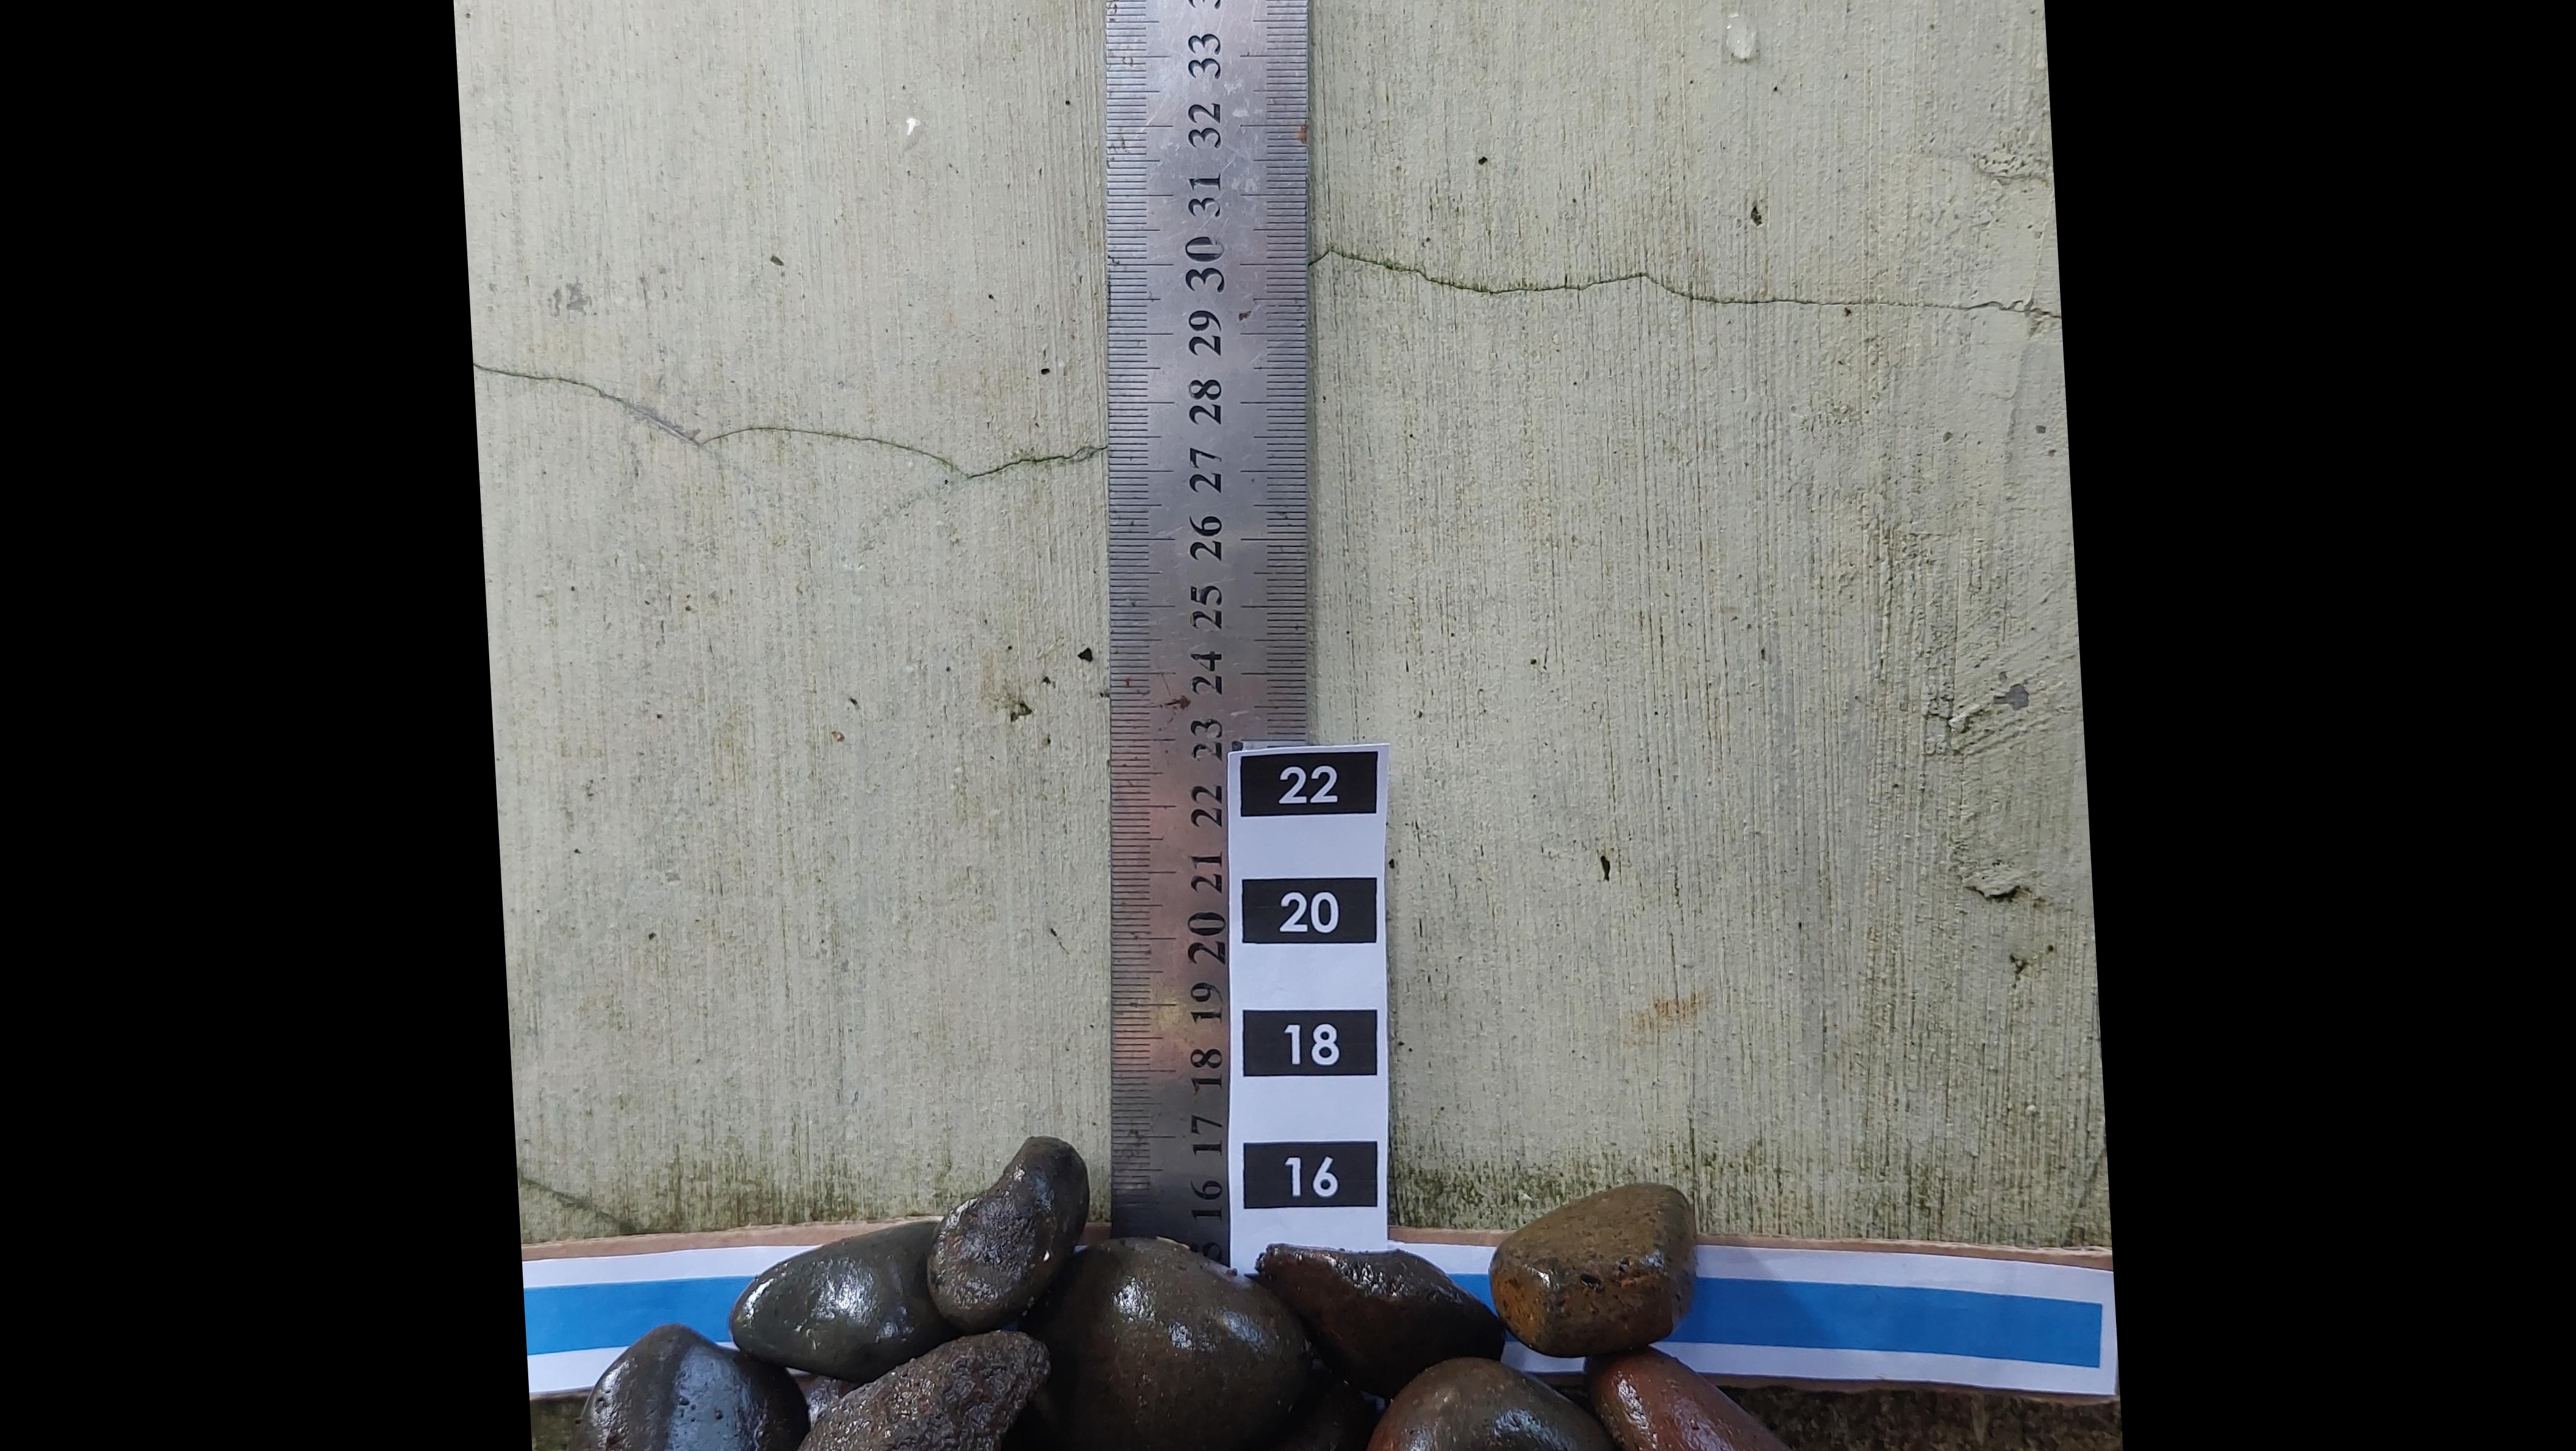kotak_2x1: (1244, 876, 1378, 947), (1246, 1007, 1378, 1076), (1242, 1141, 1378, 1207), (1242, 754, 1378, 812)
